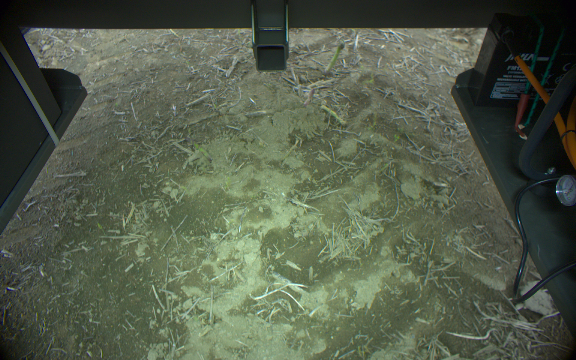aspa: (184, 136, 213, 163), (324, 40, 345, 72), (321, 103, 347, 125), (302, 86, 314, 106)
